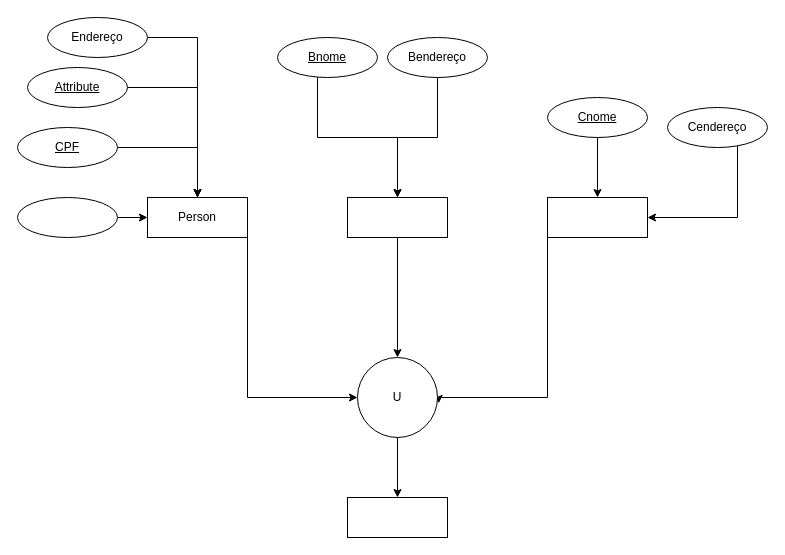
Some shapes in this 785 by 555 pixel diagram are drawn without their labels. Each missing label, with the box of its shape:
Bank: (346, 196, 448, 238)
Company: (546, 196, 648, 238)
Nome: (16, 196, 118, 238)
Owner: (346, 496, 448, 538)
